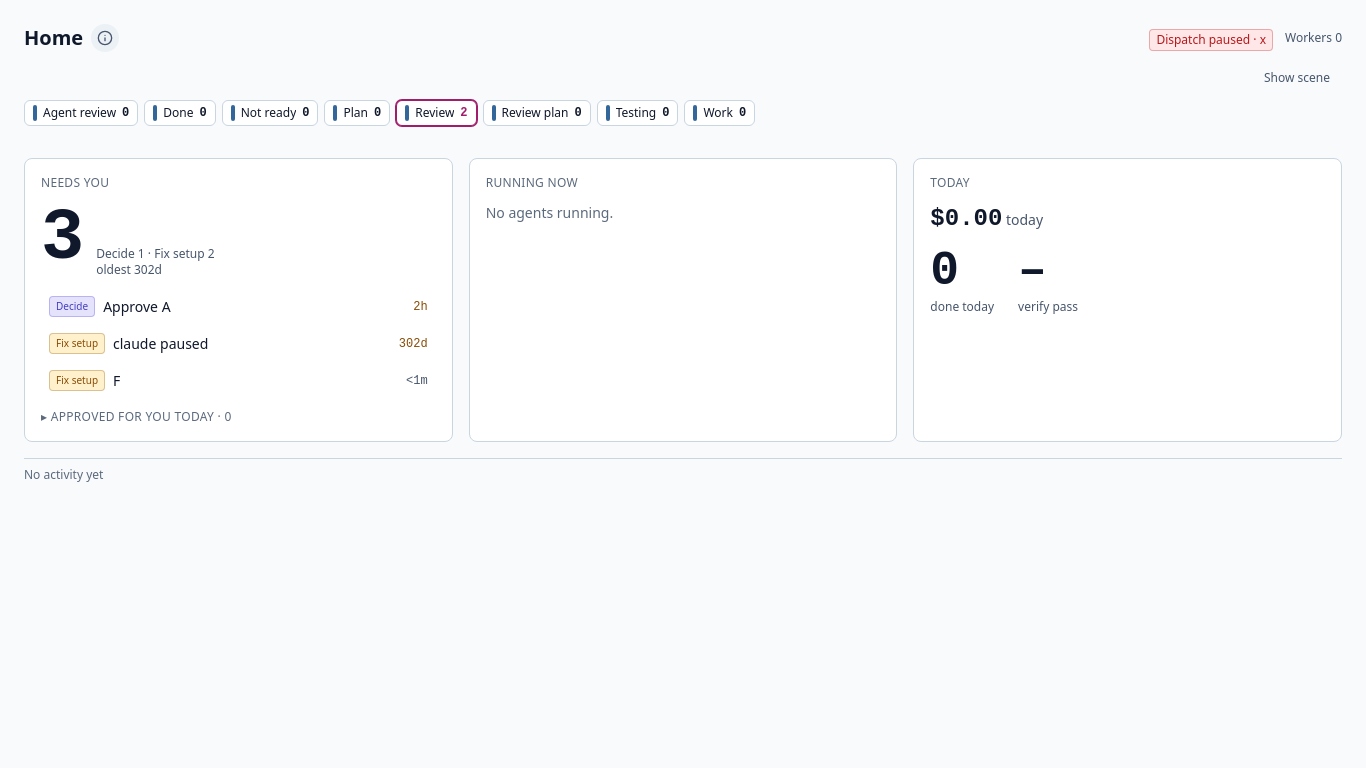
HomePage › opens the review popup from a row and closes it with Escape
Step 1. Click the button "Decide Approve A 2h" → coordinates (72, 306), box [41,290,436,323]
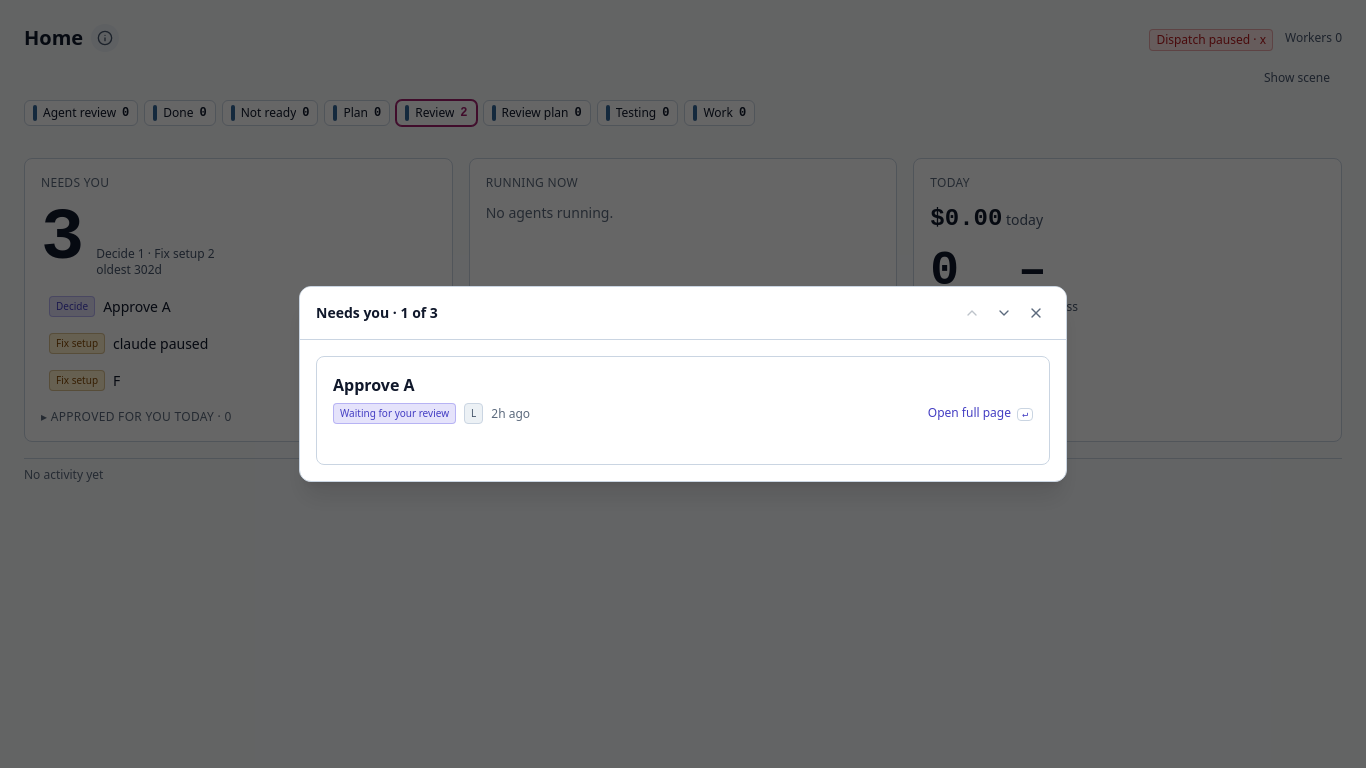
Expected: the heading "Needs you · 1 of 3" is shown, [316,303,438,323]
Step 2. Press Escape
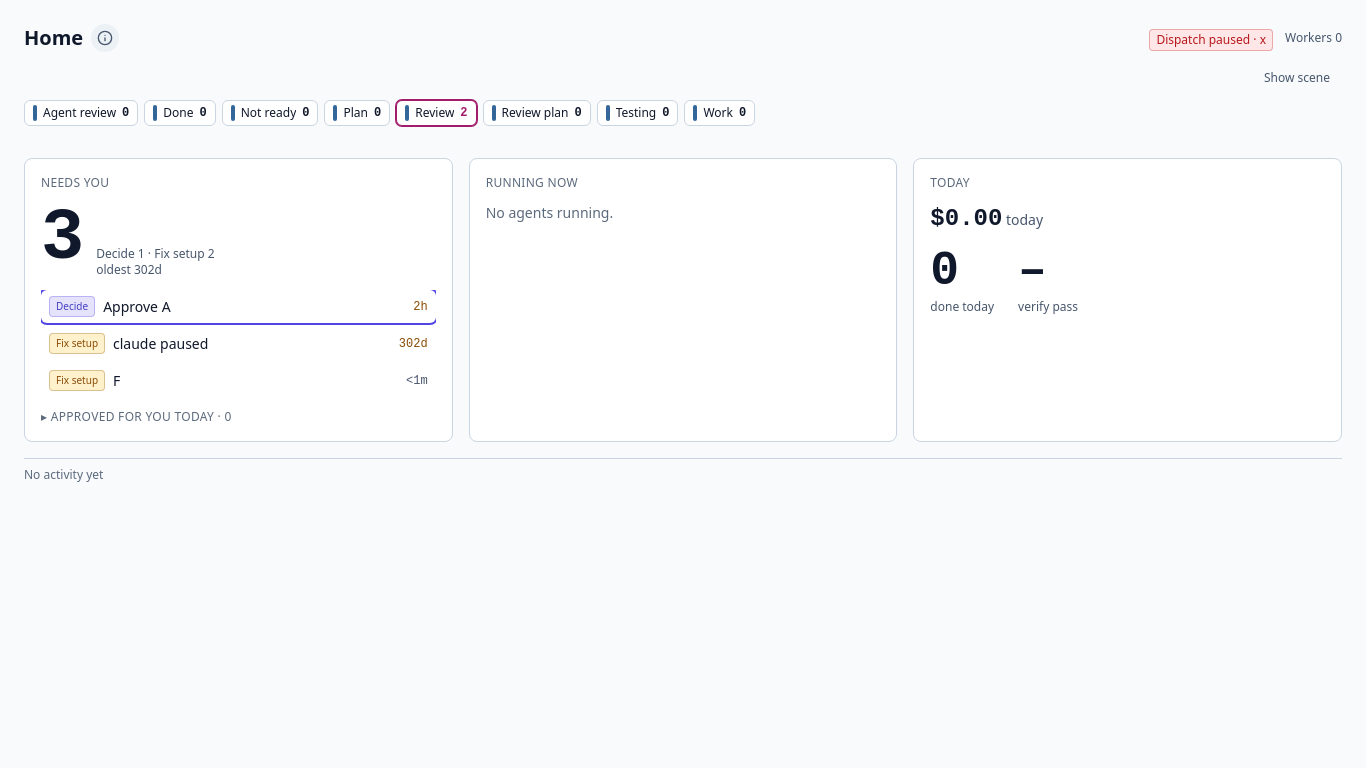
Expected: the dialog is gone
